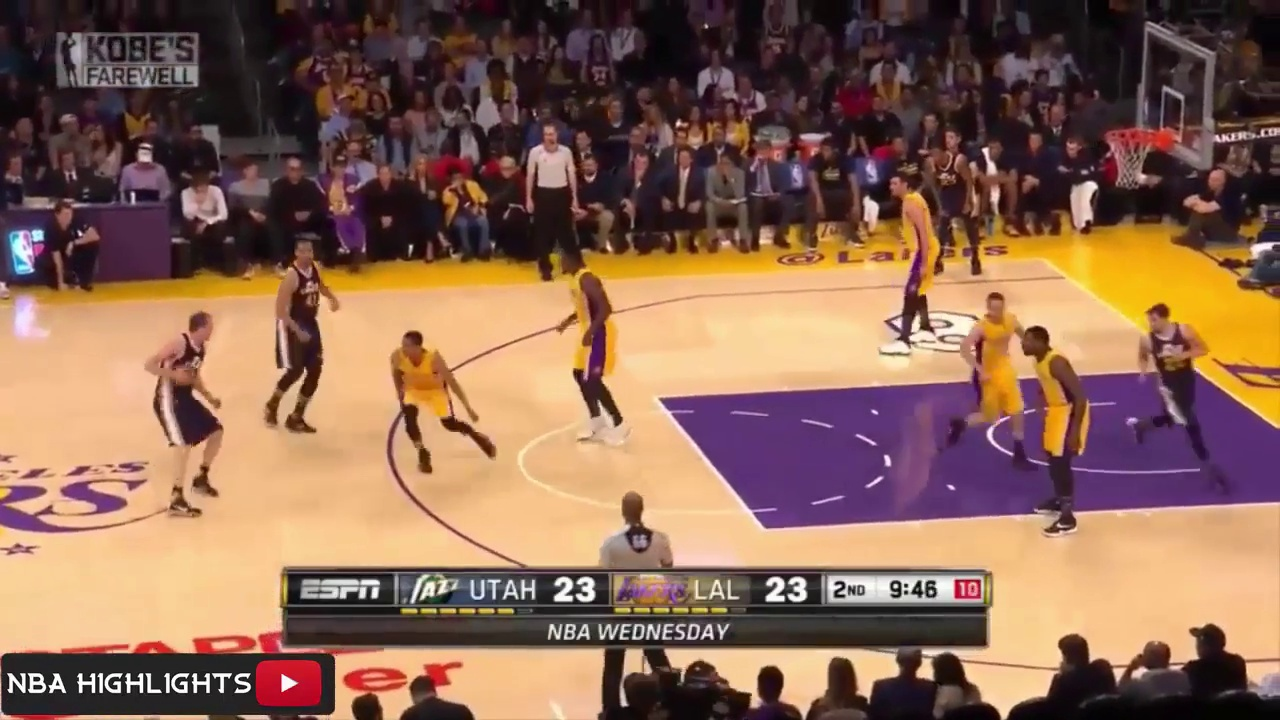jazz: (1131, 305, 1231, 495), (142, 318, 238, 510), (264, 239, 349, 434), (922, 142, 987, 281)
lakers: (552, 244, 632, 451), (1025, 321, 1099, 540), (390, 328, 495, 479), (962, 284, 1031, 470), (881, 173, 939, 358)
